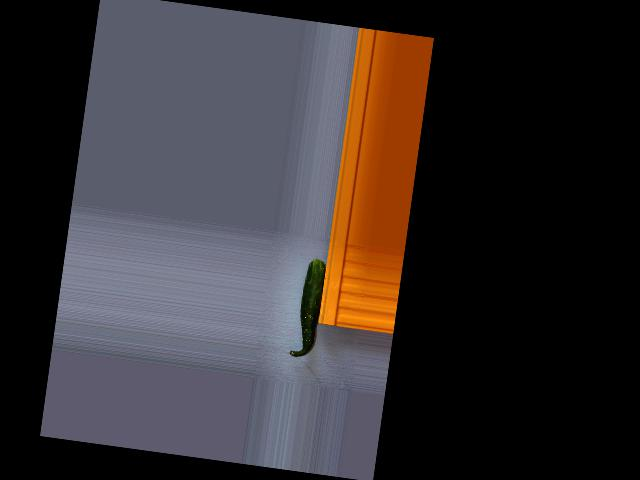cucumber: (288, 257, 327, 359)
